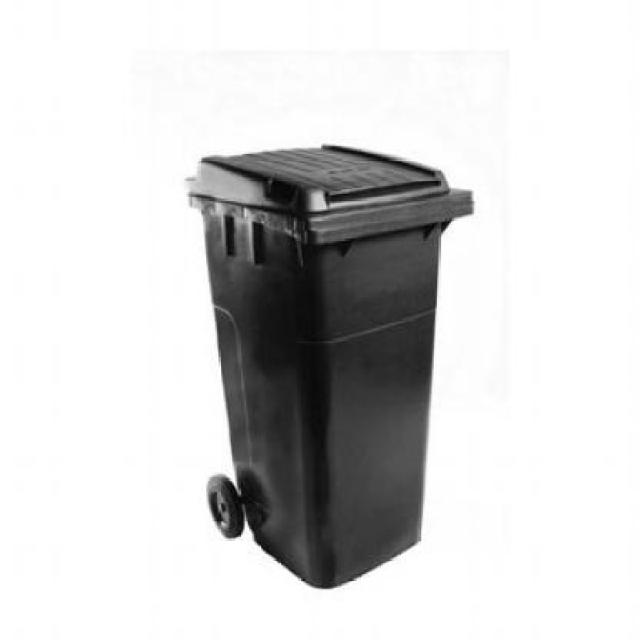garbage container: (173, 135, 484, 596)
